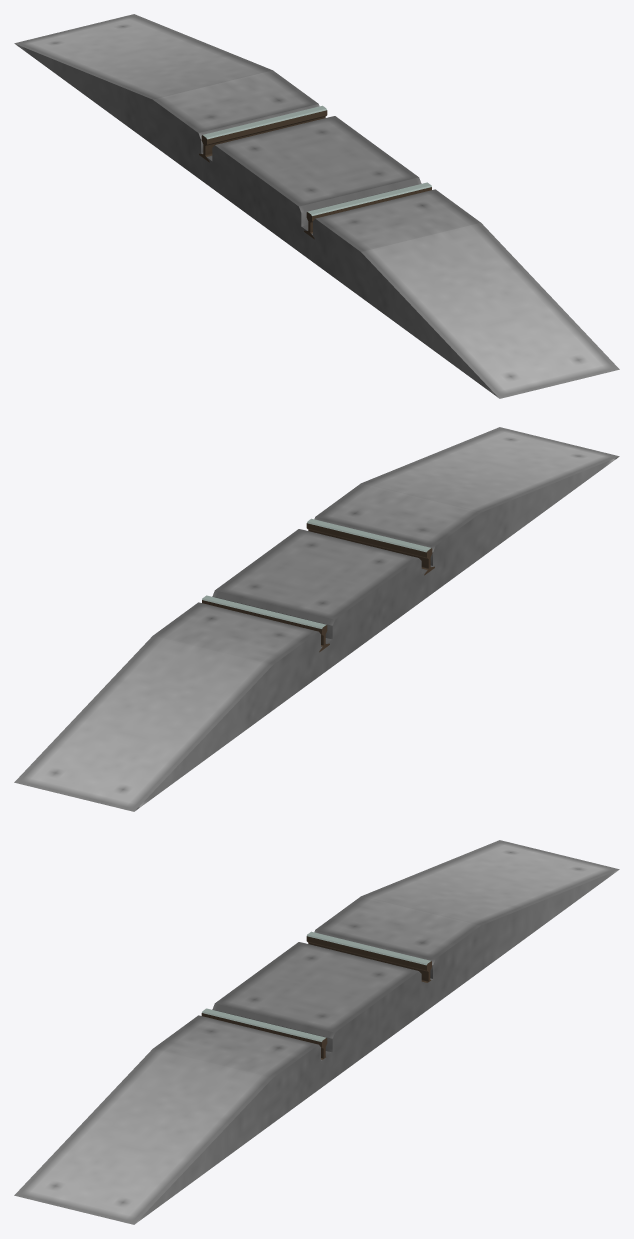
File: atsf_crossing_track_standard.obj
The picture shows the model from 3 angles, top to bottom: view 1: azimuth 30°, elevation 25°; view 2: azimuth 150°, elevation 25°; view 3: azimuth 330°, elevation 25°; orthographic projection.
Visible parts, largest first — view 1: RAIL_BASE.001_Cube.003, RAIL_RIGHT_Cube.010, RAIL_LEFT_Cube.001; view 2: RAIL_BASE.001_Cube.003, RAIL_LEFT_Cube.001, RAIL_RIGHT_Cube.010; view 3: RAIL_BASE.001_Cube.003, RAIL_RIGHT_Cube.010, RAIL_LEFT_Cube.001.
Boxes of the visible parts, left/top/right/bottom form: RAIL_BASE.001_Cube.003: left=14, top=14, right=619, bottom=398; RAIL_RIGHT_Cube.010: left=199, top=105, right=327, bottom=162; RAIL_LEFT_Cube.001: left=304, top=182, right=431, bottom=239; RAIL_BASE.001_Cube.003: left=14, top=427, right=619, bottom=811; RAIL_LEFT_Cube.001: left=306, top=518, right=434, bottom=575; RAIL_RIGHT_Cube.010: left=202, top=595, right=329, bottom=652; RAIL_BASE.001_Cube.003: left=14, top=840, right=619, bottom=1224; RAIL_RIGHT_Cube.010: left=306, top=931, right=431, bottom=982; RAIL_LEFT_Cube.001: left=201, top=1008, right=327, bottom=1059.
Size of the model in its own units: 1 by 0.3683 by 7.
Materials: 2 (2 with a texture image).
